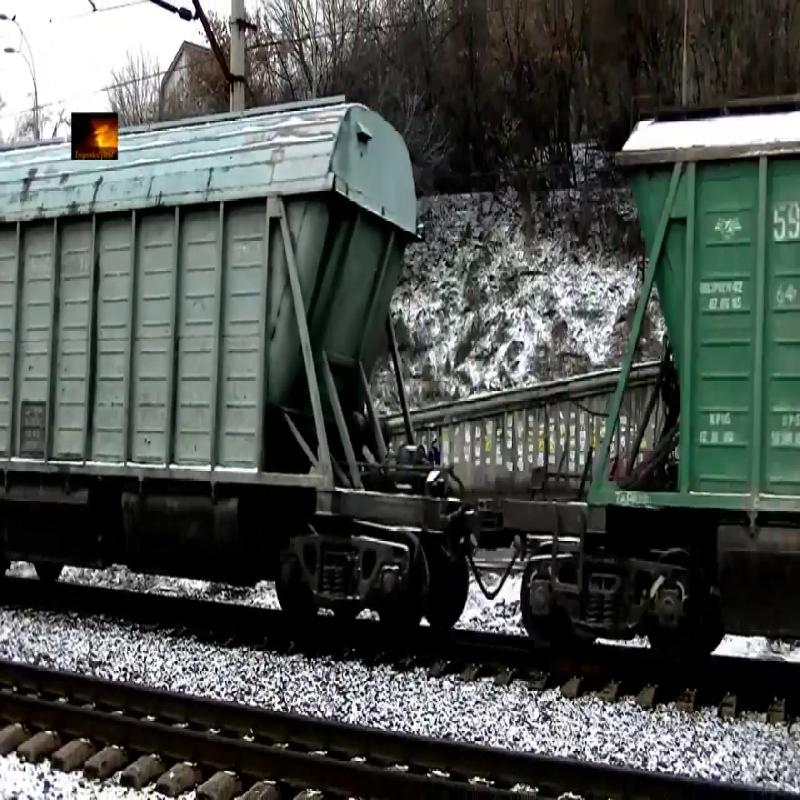train: (2, 91, 412, 537), (571, 99, 800, 565)
